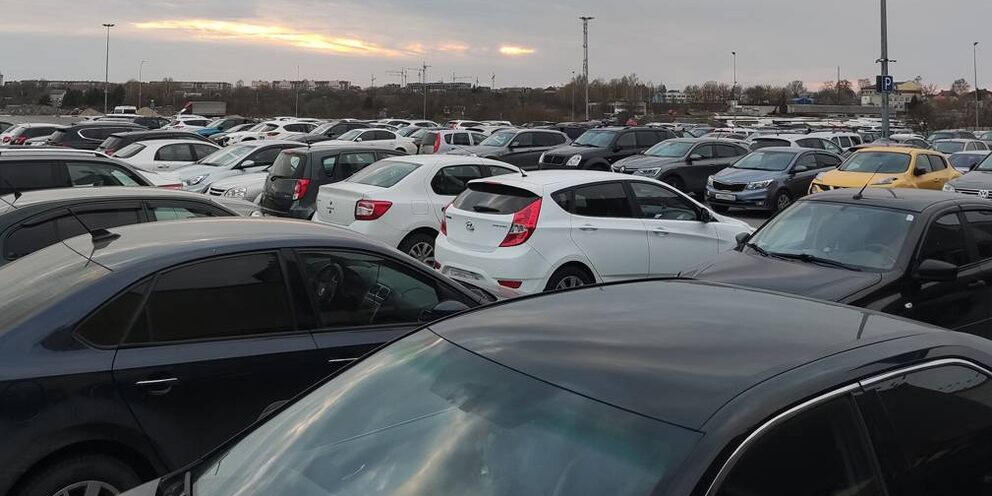Car: (109, 280, 992, 496), (0, 218, 532, 496), (678, 187, 992, 339), (434, 171, 757, 295), (312, 155, 526, 269), (0, 187, 248, 266), (0, 146, 266, 217), (259, 145, 406, 219), (705, 147, 845, 213), (611, 139, 753, 198), (170, 140, 317, 193), (808, 146, 960, 194), (539, 127, 676, 171), (446, 128, 572, 171), (111, 140, 220, 171), (44, 122, 156, 151), (97, 130, 217, 156), (313, 128, 418, 155), (943, 151, 992, 200), (206, 171, 269, 204), (748, 134, 843, 155), (284, 122, 372, 144), (419, 130, 488, 155), (744, 125, 811, 146), (0, 122, 60, 145), (194, 118, 258, 139), (808, 131, 864, 153), (928, 139, 989, 159), (839, 144, 924, 158), (222, 122, 269, 147), (258, 121, 319, 140), (208, 124, 257, 147), (9, 125, 64, 145), (948, 150, 992, 173), (872, 134, 930, 150), (138, 171, 184, 191), (409, 127, 453, 146), (925, 129, 979, 144), (177, 102, 226, 116), (128, 115, 172, 130), (166, 119, 215, 132), (466, 126, 514, 136), (445, 120, 487, 130), (714, 128, 757, 137), (397, 120, 439, 129), (698, 133, 749, 140), (681, 128, 714, 138), (395, 126, 422, 138), (369, 123, 400, 132), (23, 135, 50, 145), (978, 132, 992, 150), (378, 119, 407, 127), (481, 120, 512, 127), (0, 121, 15, 135), (114, 106, 137, 115), (290, 118, 321, 124), (856, 127, 882, 134), (171, 115, 207, 120), (77, 116, 102, 123), (525, 121, 549, 128), (556, 122, 579, 127), (351, 120, 377, 124), (273, 117, 297, 121), (339, 119, 358, 122)
